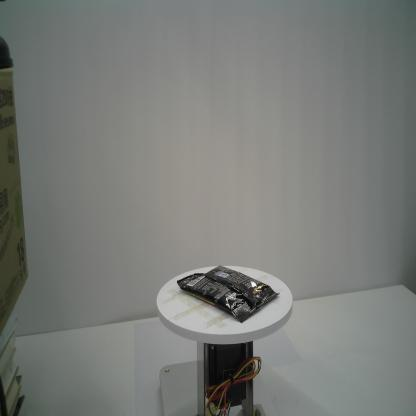Instant Drink: (177, 265, 280, 324)
